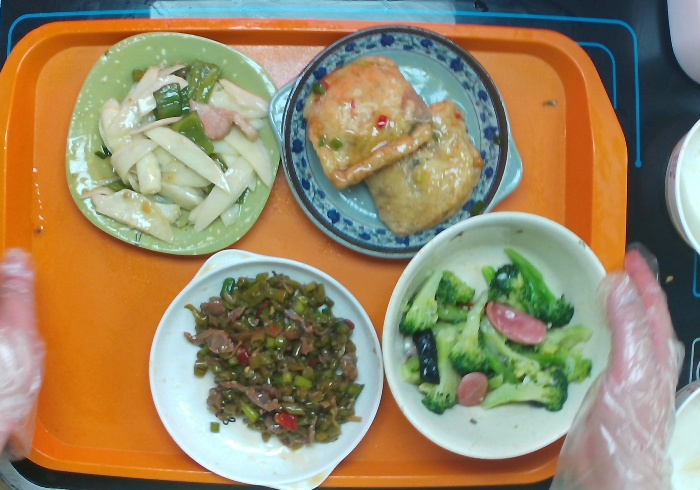NLDX-Bai_Se_Shuang_Er_Die: (144, 246, 388, 487)
NLDX-Bai_Se_Yuan_Wan: (374, 206, 624, 465)
NLDX-Lv_Hua_Fang_Die: (60, 27, 290, 259)
NLDX-Qing_Hua_Shuang_Er_Die: (261, 21, 526, 269)
